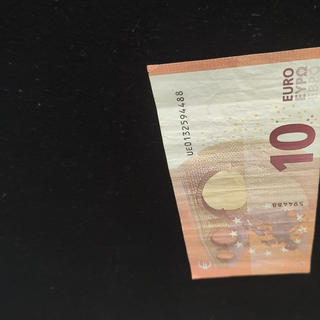10EUROBack: (145, 45, 320, 279)
